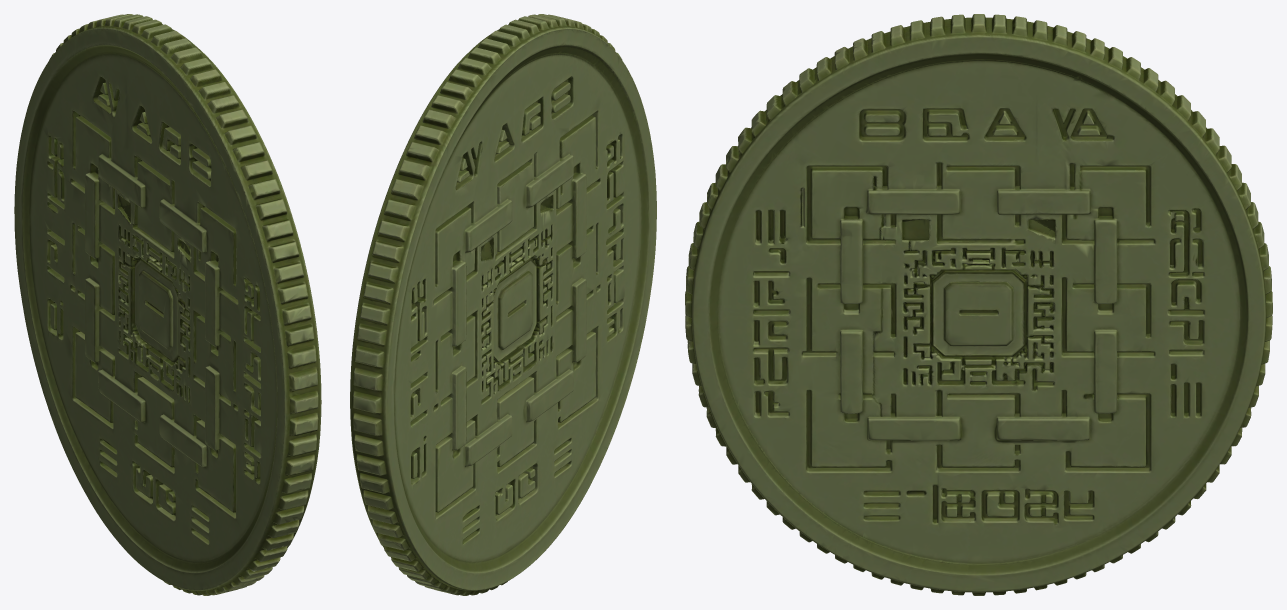
Rendered from ChatGPT_Image_Sep_7_2026_at_01_Circular_coin_with_intricate_design_and_markings_Prism_31_a463a9f4-web.glb.
3 views of the same model, side by side, from view 1: azimuth 30°, elevation 25°; view 2: azimuth 150°, elevation 25°; view 3: azimuth 270°, elevation 25° (orthographic). The views are drawn at different scales.
Visible parts, largest first — view 1: tripo_node_b0ac2365-c76b-4ef8-8c18-8b6bcbc15beb; view 2: tripo_node_b0ac2365-c76b-4ef8-8c18-8b6bcbc15beb; view 3: tripo_node_b0ac2365-c76b-4ef8-8c18-8b6bcbc15beb.
Boxes of the visible parts, x1,y1,x2,y2 form: tripo_node_b0ac2365-c76b-4ef8-8c18-8b6bcbc15beb: [14, 14, 321, 595]; tripo_node_b0ac2365-c76b-4ef8-8c18-8b6bcbc15beb: [350, 14, 656, 595]; tripo_node_b0ac2365-c76b-4ef8-8c18-8b6bcbc15beb: [685, 14, 1272, 595].
Size of the model in its own units: 0.0706 by 0.9807 by 0.914.
Materials: 1 (1 with a texture image).
